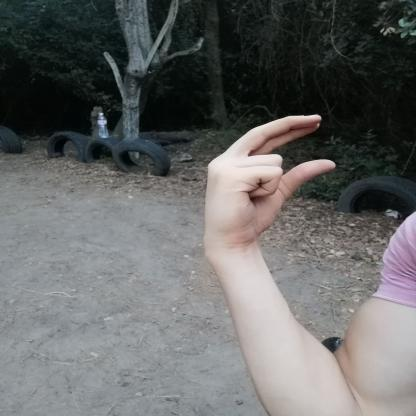DHELL: (194, 105, 344, 259)
